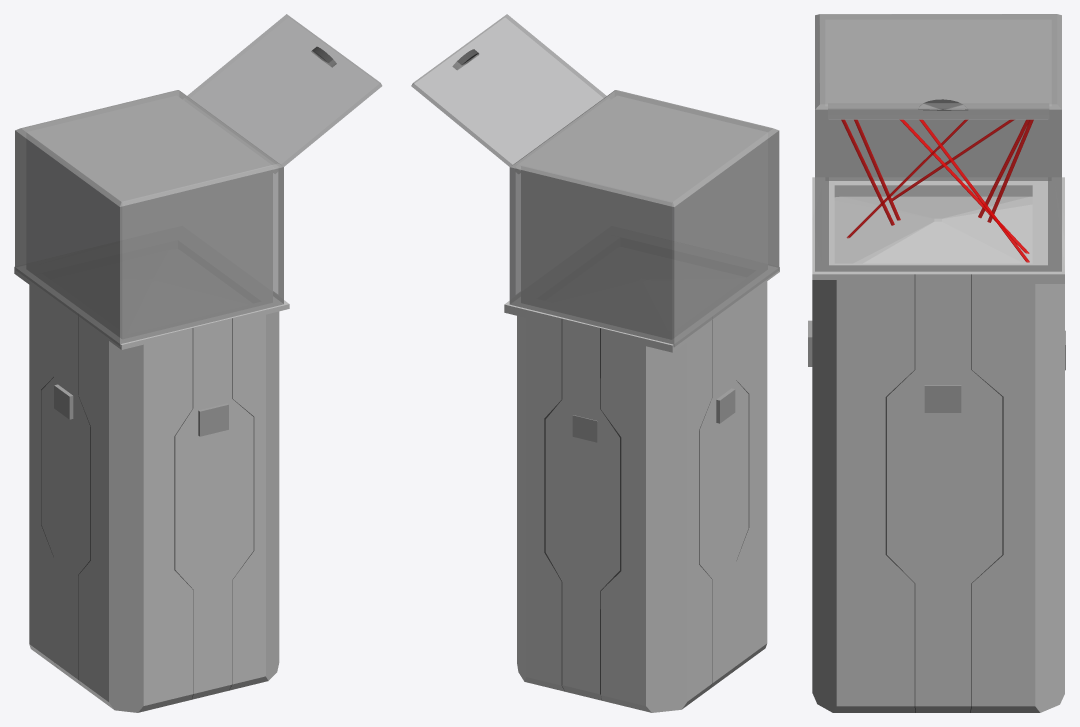
File: lazerAnimation.fbx
3 views of the same model, side by side, from view 1: azimuth 30°, elevation 25°; view 2: azimuth 150°, elevation 25°; view 3: azimuth 270°, elevation 25° (orthographic). The views are drawn at different scales.
Visible parts, largest first — view 1: body, door; view 2: body, door; view 3: body, door.
Part boxes in pixels (<box>): body: <box>14,90,289,712</box>; door: <box>183,14,382,173</box>; body: <box>504,90,779,712</box>; door: <box>411,14,610,173</box>; body: <box>808,14,1065,712</box>; door: <box>828,99,1049,119</box>.
Size of the model in its own units: 8.62 by 17.18 by 6.01.
